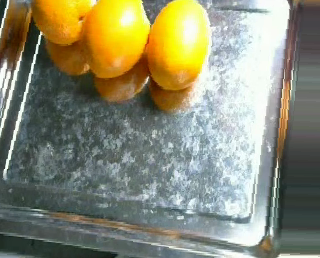Orange: (146, 1, 212, 90), (80, 1, 151, 79), (29, 0, 99, 45)
